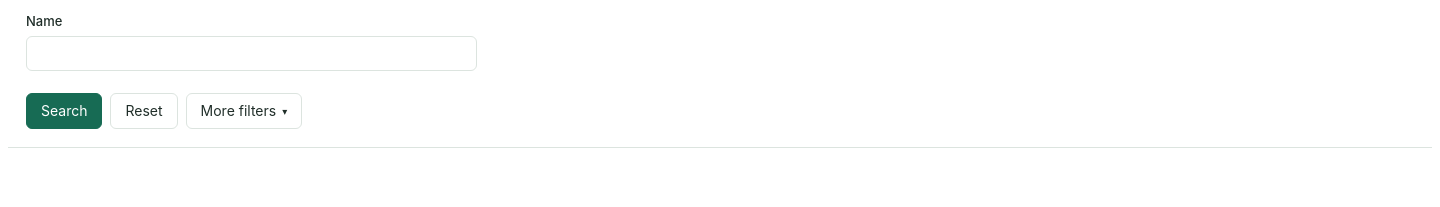
Test case: main search validates more fields after the popover is closed
Click the button with test id "rac-search" at (64, 111), box top-left (26, 93), bottom-right (102, 129)
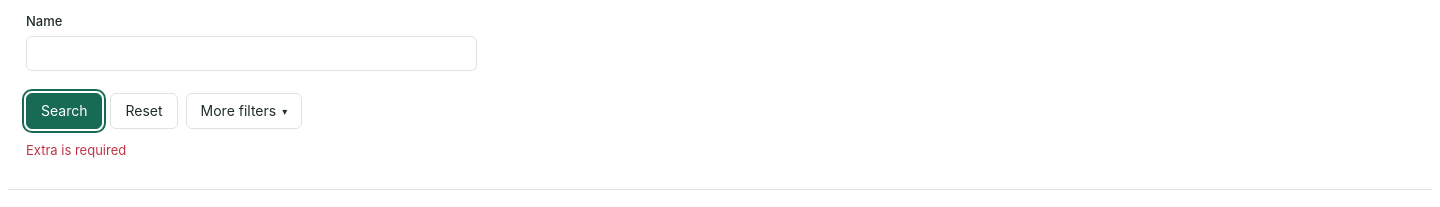
expect the text "Extra is required" is shown: met, box top-left (26, 142), bottom-right (126, 158)
